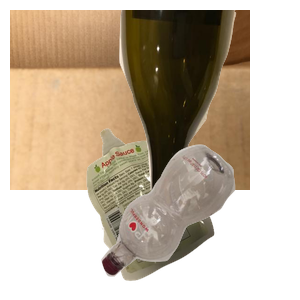cardboard: (10, 10, 250, 190)
glass: (117, 10, 300, 190)
plastic: (99, 142, 300, 300)
trash: (84, 126, 291, 300)
